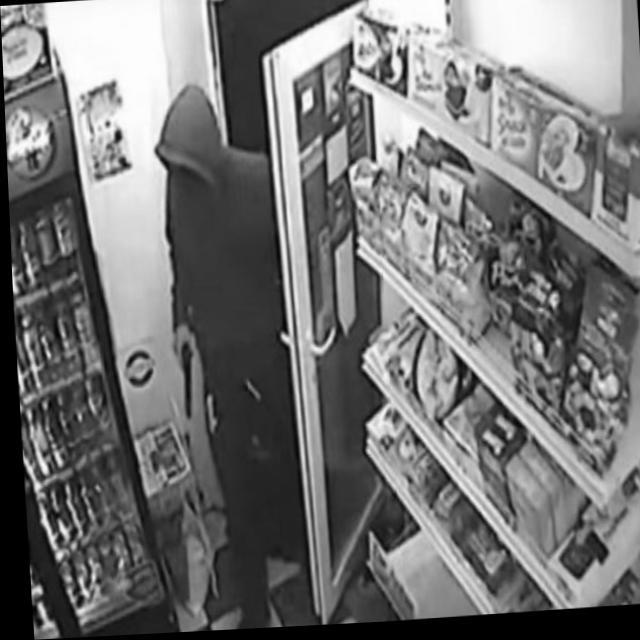weapon: (175, 346, 198, 424)
